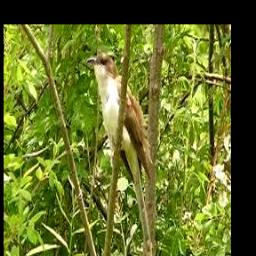Cuckoo: (86, 55, 153, 179)
